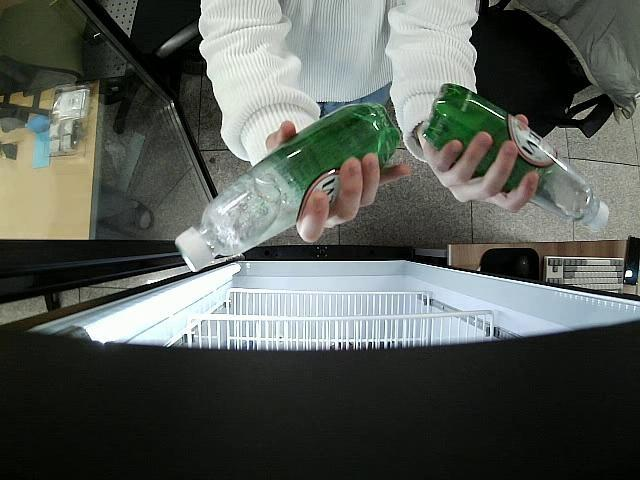18_trevi: (175, 103, 403, 272), (424, 82, 610, 232)
